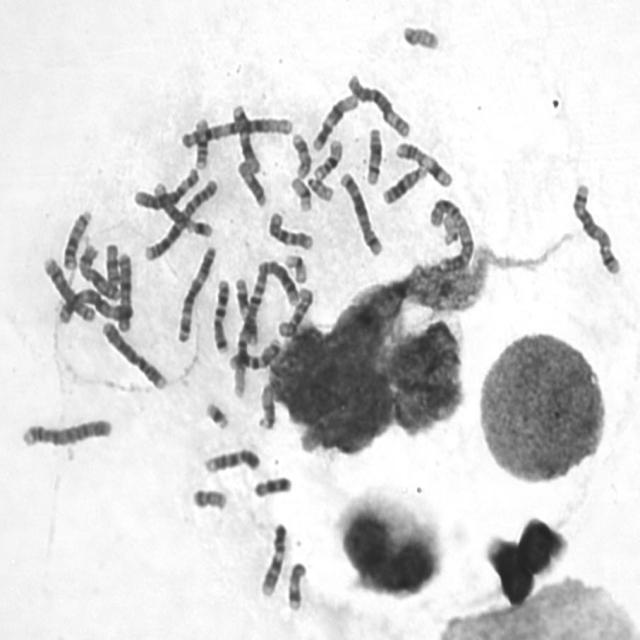A1: (228, 275, 268, 400), (176, 112, 294, 150)
A2: (141, 174, 220, 262), (426, 195, 476, 274)
A3: (174, 242, 218, 344), (54, 284, 133, 328)
B4: (98, 317, 169, 392), (17, 413, 114, 450)
B5: (569, 179, 623, 277), (336, 168, 384, 258)
C10: (264, 207, 316, 252), (276, 282, 316, 340)
C11: (392, 138, 454, 188), (232, 275, 260, 347)
C12: (308, 89, 360, 153), (228, 101, 262, 173)
C6: (344, 70, 412, 140), (130, 164, 201, 212)
C7: (226, 336, 282, 372), (210, 275, 232, 355)
C8: (40, 253, 97, 324), (257, 260, 301, 305)
C9: (258, 519, 290, 598), (200, 444, 262, 476)
D13: (59, 205, 93, 272), (379, 161, 429, 206)
D14: (152, 182, 190, 232), (363, 123, 384, 186)
D15: (234, 158, 269, 208), (255, 380, 278, 432)
E16: (310, 134, 344, 181), (190, 112, 211, 170)
E17: (284, 558, 308, 613), (288, 129, 312, 179)
E18: (250, 473, 294, 500), (102, 239, 122, 292)
F19: (287, 173, 313, 213), (281, 250, 308, 285)
F20: (399, 21, 441, 51), (188, 484, 230, 513)
G21: (201, 398, 232, 432), (188, 219, 215, 239)
G22: (304, 172, 336, 203), (442, 215, 459, 245)
X: (76, 239, 122, 302), (114, 248, 134, 333)
